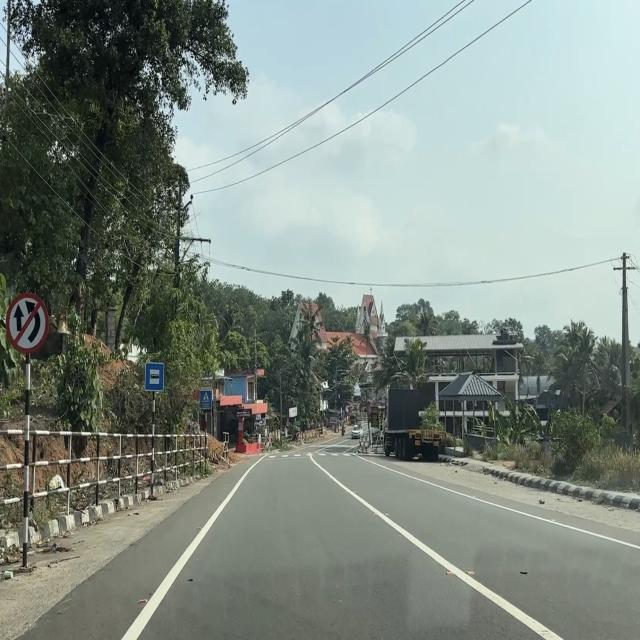INFORMATION: (144, 362, 164, 392)
OVERTAKING_PROHIBITED: (5, 291, 50, 354)
PEDESTRIAN_CROSSING: (200, 390, 212, 409)
